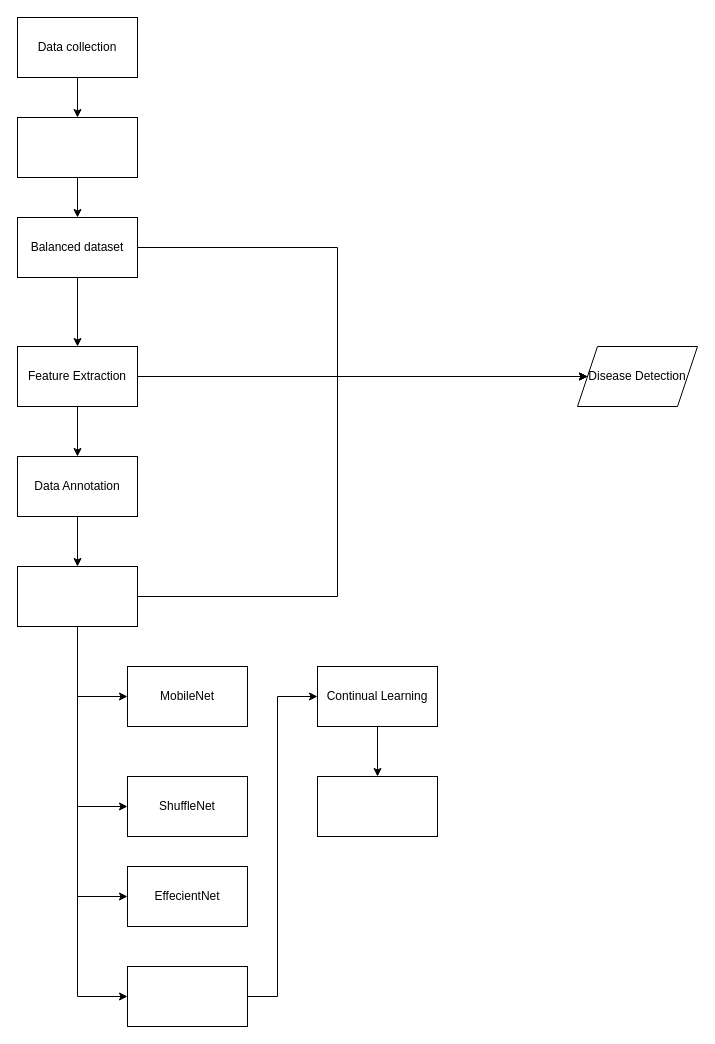
The diagram is 715 pixels wide and 1044 high, and some of its shapes have lost their labels. The shapes that lost their labels are listed below. From the top down, each one's centre as x and y in pixels, then its label:
At [77,147]: "Cleaning dataset".
At [77,596]: "Training M odels".
At [377,806]: "Fine Tuning Updator".
At [187,996]: "Octave Convolution with ResNet50".
